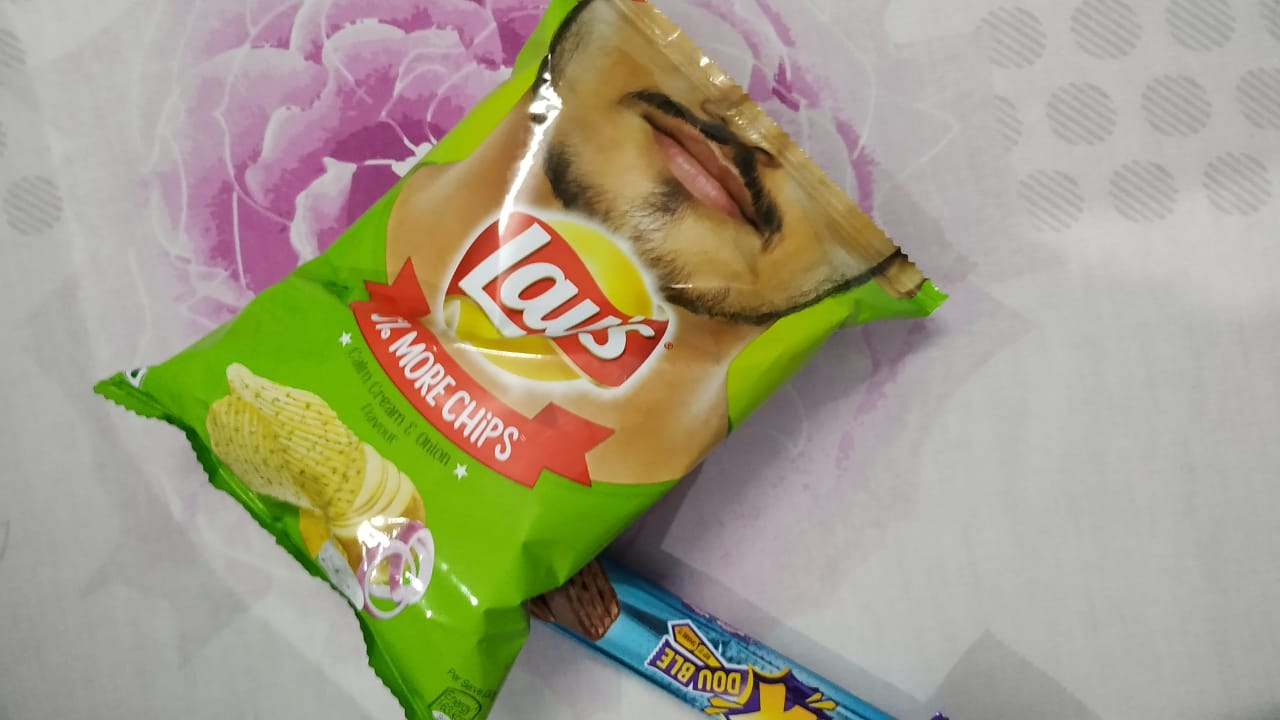lays chips: (85, 4, 966, 581)
perk: (522, 544, 929, 720)
